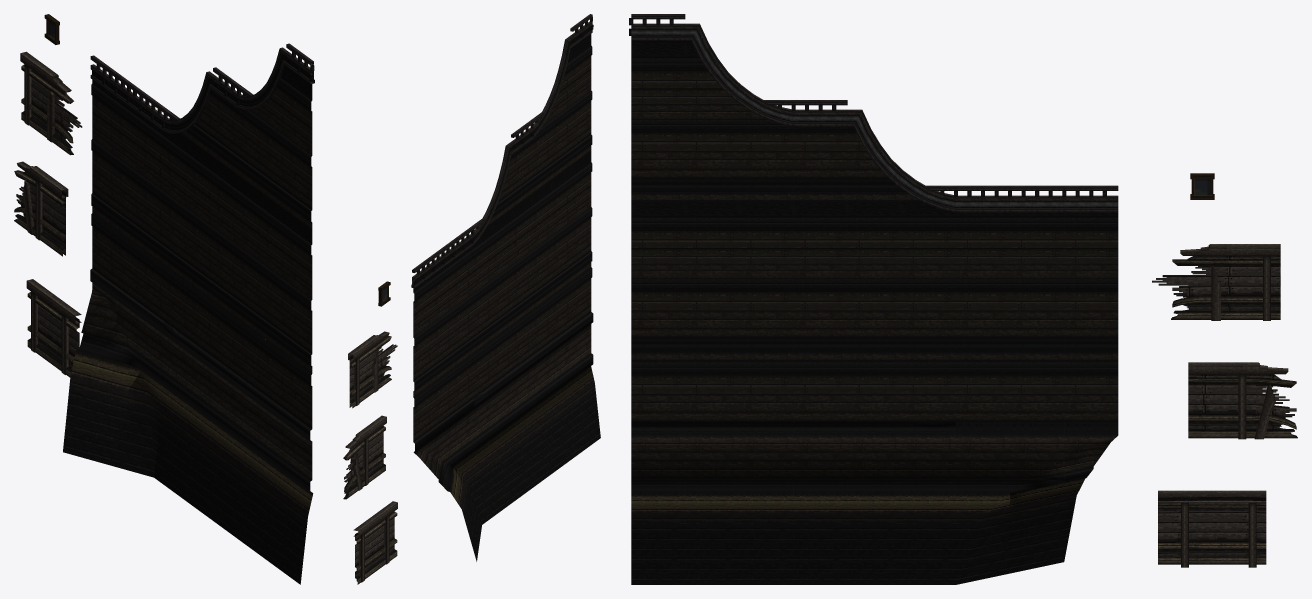
File: EnvMdrMD_Ship_E_GrdWall_A_Spline_A_Outside.FBX
3 renders of one model, left to right at view 1: azimuth 30°, elevation 25°; view 2: azimuth 150°, elevation 25°; view 3: azimuth 270°, elevation 25°, orthographic. The views are drawn at different scales.
Parts seen in each view (by area): view 1: EnvMdrMD_Ship_E_GrdWall_A_Spline_A_Outside, EnvMdrMD_Ship_E_Wall_Deco_A_Broken_Right, EnvMdrMD_Ship_E_Wall_Deco_A, EnvMdrMD_Ship_E_Wall_Deco_A_Broken_Left; view 2: EnvMdrMD_Ship_E_GrdWall_A_Spline_A_Outside, EnvMdrMD_Ship_E_Wall_Deco_A, EnvMdrMD_Ship_E_Wall_Deco_A_Broken_Right, EnvMdrMD_Ship_E_Wall_Deco_A_Broken_Left; view 3: EnvMdrMD_Ship_E_GrdWall_A_Spline_A_Outside, EnvMdrMD_Ship_E_Wall_Deco_A, EnvMdrMD_Ship_E_Wall_Deco_A_Broken_Right, EnvMdrMD_Ship_E_Wall_Deco_A_Broken_Left.
Part boxes in pixels (x1,y1,x2,y2): EnvMdrMD_Ship_E_GrdWall_A_Spline_A_Outside: (63,43,314,584); EnvMdrMD_Ship_E_Wall_Deco_A_Broken_Right: (20,51,82,155); EnvMdrMD_Ship_E_Wall_Deco_A: (26,279,81,377); EnvMdrMD_Ship_E_Wall_Deco_A_Broken_Left: (14,161,68,256); EnvMdrMD_Ship_E_GrdWall_A_Spline_A_Outside: (411,14,600,561); EnvMdrMD_Ship_E_Wall_Deco_A: (353,501,397,584); EnvMdrMD_Ship_E_Wall_Deco_A_Broken_Right: (348,331,397,408); EnvMdrMD_Ship_E_Wall_Deco_A_Broken_Left: (343,415,386,499); EnvMdrMD_Ship_E_GrdWall_A_Spline_A_Outside: (629,14,1118,584); EnvMdrMD_Ship_E_Wall_Deco_A: (1158,490,1266,567); EnvMdrMD_Ship_E_Wall_Deco_A_Broken_Right: (1152,244,1280,320); EnvMdrMD_Ship_E_Wall_Deco_A_Broken_Left: (1188,362,1297,439).
Size of the model in its own units: 290 by 2350 by 2471.
Materials: 1 (1 with a texture image).
